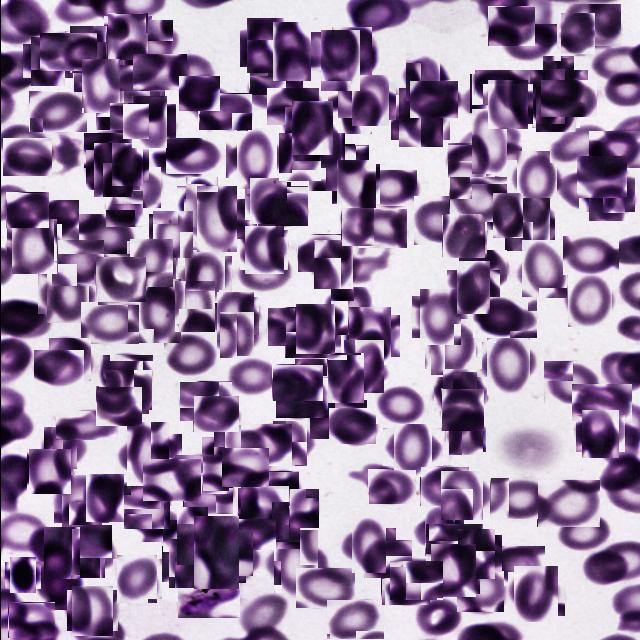red blood cell: (186, 523, 246, 583), (268, 536, 324, 592), (536, 479, 599, 527), (120, 428, 174, 482), (132, 284, 186, 338), (413, 196, 472, 245), (190, 192, 243, 245), (481, 338, 534, 390), (78, 214, 135, 262), (489, 477, 554, 519), (471, 296, 536, 338), (230, 132, 282, 184), (517, 243, 569, 295), (394, 92, 446, 144), (448, 176, 506, 222), (42, 267, 93, 319), (238, 487, 290, 538), (16, 200, 78, 242), (427, 321, 478, 372), (542, 360, 600, 404), (344, 311, 395, 361), (141, 458, 200, 501), (564, 274, 614, 324), (502, 200, 552, 250), (414, 292, 464, 342), (510, 569, 560, 619), (464, 117, 514, 167), (289, 363, 339, 413), (8, 222, 58, 272), (428, 546, 478, 596), (315, 36, 365, 86), (33, 563, 86, 610), (50, 239, 103, 286), (388, 422, 437, 472), (80, 302, 138, 344), (424, 523, 482, 565), (266, 27, 315, 76), (563, 4, 620, 46), (28, 91, 86, 132), (554, 511, 612, 552), (295, 568, 354, 608), (56, 478, 105, 526), (95, 256, 144, 304), (558, 171, 614, 213), (162, 333, 216, 376), (325, 599, 383, 639), (106, 57, 164, 97), (512, 154, 560, 202), (242, 22, 290, 70), (88, 146, 136, 194), (287, 104, 335, 152), (549, 126, 611, 163), (261, 488, 318, 528), (181, 252, 228, 300), (208, 431, 255, 479), (582, 170, 630, 217), (309, 400, 366, 439), (571, 384, 631, 421), (302, 139, 349, 186), (173, 454, 228, 494), (562, 236, 618, 275), (580, 543, 633, 584), (39, 33, 96, 71), (339, 343, 386, 389), (95, 90, 149, 130), (388, 560, 442, 600), (240, 424, 291, 466), (178, 381, 231, 421), (491, 546, 544, 586), (128, 240, 174, 286), (328, 28, 374, 74), (534, 63, 580, 109), (171, 283, 217, 329), (438, 472, 484, 518), (68, 588, 114, 634), (276, 134, 322, 180), (77, 64, 123, 110), (576, 156, 626, 198), (226, 358, 281, 396), (97, 354, 152, 392), (236, 252, 288, 292), (275, 378, 327, 418), (540, 80, 596, 117), (114, 556, 159, 602), (328, 288, 373, 334), (122, 485, 169, 529), (374, 386, 428, 424), (248, 72, 302, 110), (256, 186, 307, 226), (501, 24, 556, 61), (345, 523, 390, 568), (292, 306, 337, 351), (484, 82, 530, 126), (40, 530, 84, 576), (168, 514, 214, 558), (348, 78, 392, 124), (238, 593, 285, 636), (458, 250, 506, 292), (182, 474, 232, 514), (198, 93, 252, 130), (165, 138, 220, 174), (438, 372, 482, 417), (453, 532, 498, 576), (419, 466, 468, 506), (358, 209, 408, 248), (266, 307, 316, 346), (132, 54, 186, 90), (465, 77, 509, 121), (332, 85, 376, 129), (150, 212, 194, 256), (66, 530, 110, 574), (310, 242, 354, 286), (533, 86, 577, 130), (442, 214, 486, 258), (27, 449, 71, 493), (106, 368, 150, 412), (82, 476, 126, 520), (241, 228, 285, 272), (333, 162, 377, 206), (106, 14, 150, 58), (126, 100, 170, 144), (322, 357, 367, 400), (456, 571, 503, 612), (113, 167, 160, 208), (266, 88, 318, 125), (250, 511, 300, 549), (212, 294, 255, 338), (451, 266, 494, 310), (164, 542, 207, 586), (284, 321, 335, 358), (271, 364, 322, 401), (588, 131, 639, 168), (487, 6, 534, 46), (474, 70, 529, 104), (2, 138, 51, 176), (408, 80, 457, 118), (578, 412, 621, 455), (440, 388, 483, 431), (95, 386, 141, 426), (317, 145, 368, 181), (221, 448, 268, 487), (363, 540, 411, 578), (48, 338, 90, 381), (67, 28, 109, 71), (366, 170, 416, 206), (33, 350, 83, 386), (55, 411, 117, 440), (83, 133, 134, 168), (132, 22, 174, 64), (180, 182, 222, 224), (246, 180, 288, 222), (26, 40, 68, 82), (446, 142, 494, 178), (192, 395, 238, 432), (132, 506, 179, 542), (328, 408, 375, 444), (7, 602, 54, 638), (367, 469, 415, 504), (402, 56, 442, 98), (296, 234, 340, 272), (168, 54, 212, 92), (62, 524, 111, 558), (222, 519, 275, 550), (258, 471, 298, 512), (414, 597, 458, 634), (269, 423, 309, 463), (418, 512, 458, 552), (202, 546, 242, 586), (216, 315, 256, 355), (5, 192, 48, 228), (446, 416, 484, 454), (488, 196, 526, 234), (178, 76, 219, 111), (560, 14, 594, 56), (340, 203, 373, 246), (41, 428, 78, 466), (104, 190, 142, 227), (108, 146, 145, 184), (109, 103, 148, 139), (380, 578, 429, 605), (6, 560, 38, 591)
trophozoite: (177, 579, 239, 618)
